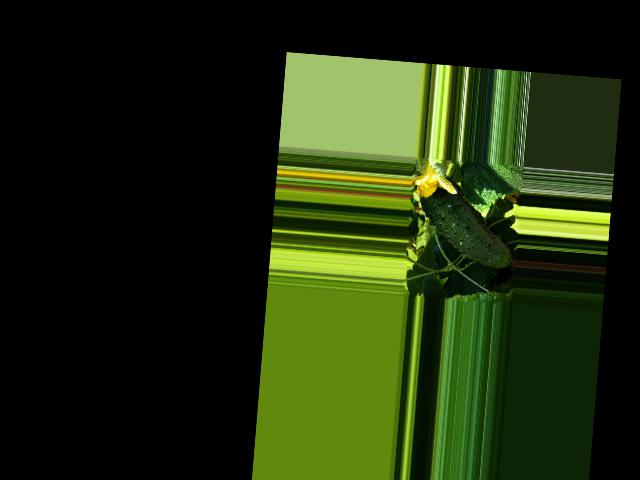cucumber: (414, 175, 523, 271)
